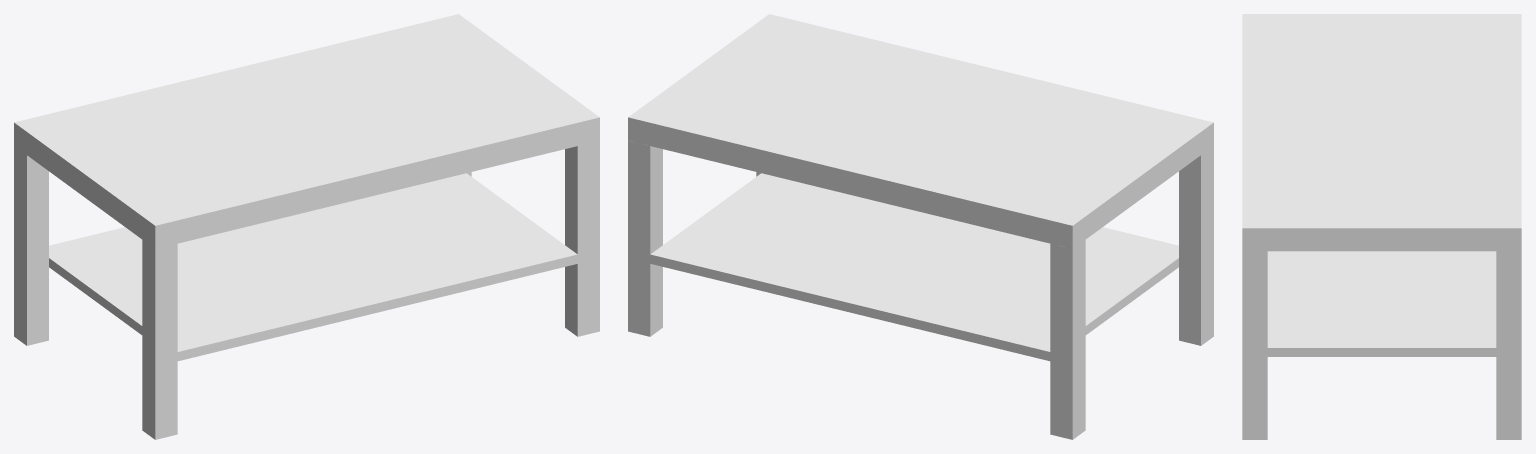
File: Table 6.FBX
The picture shows the model from 3 angles, left to right: view 1: azimuth 30°, elevation 25°; view 2: azimuth 150°, elevation 25°; view 3: azimuth 270°, elevation 25°; orthographic projection.
Parts seen in each view (by area): view 1: Table 6; view 2: Table 6; view 3: Table 6.
Boxes of the visible parts, x1=… form: Table 6: x1=14, y1=14, x2=599, y2=439; Table 6: x1=628, y1=14, x2=1213, y2=439; Table 6: x1=1242, y1=14, x2=1521, y2=439.
Size of the model in its own units: 99.97 by 46 by 55.01.
Materials: 1 (1 with a texture image).
